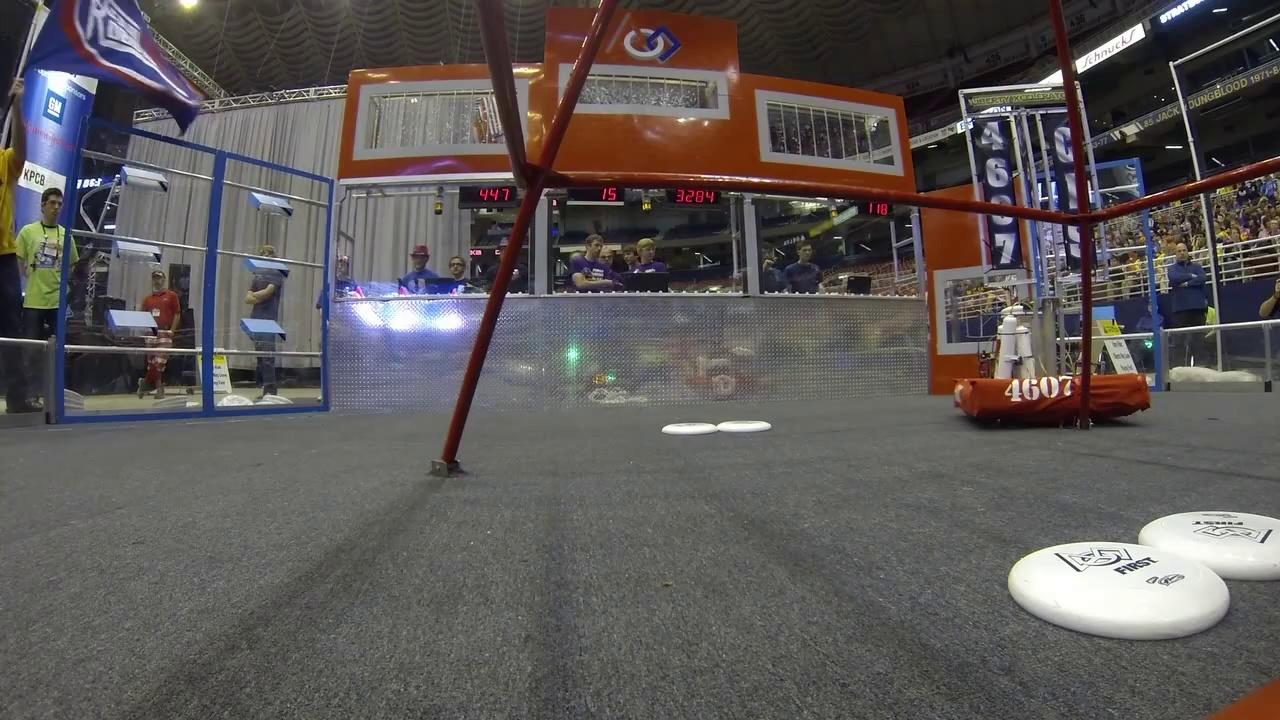robot: (947, 76, 1161, 428)
